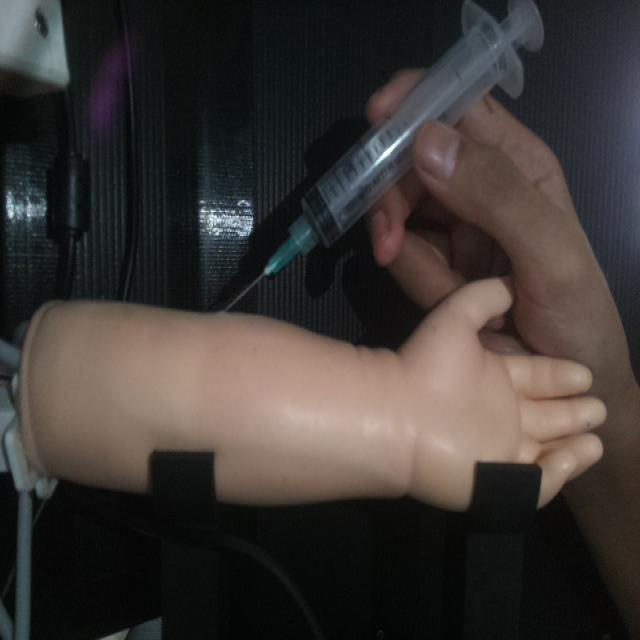Outside: (212, 0, 546, 315)
